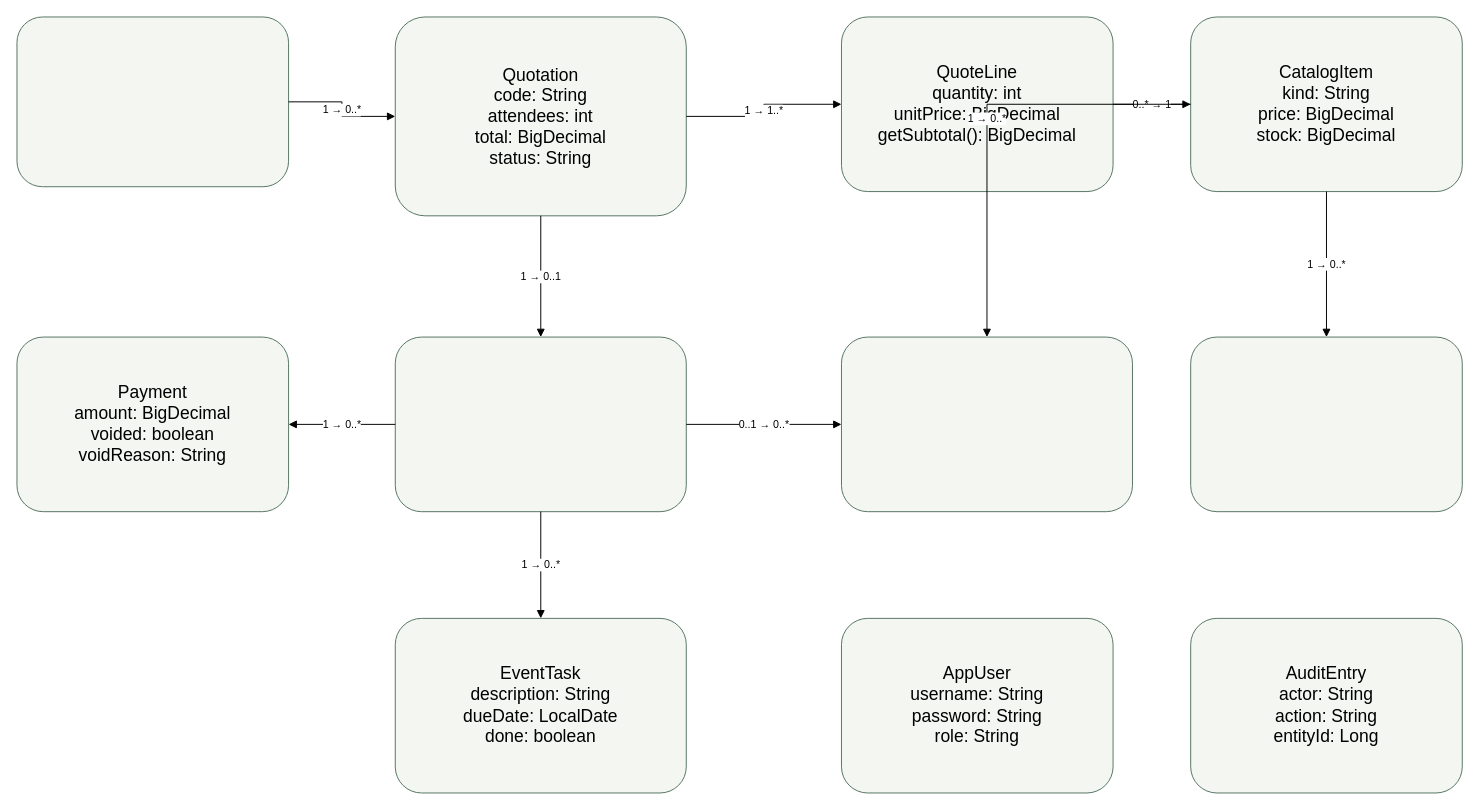
This 1479x810 diagram has some shape labels left out. Each missing label, with the centre of its shape:
"Client id: Long name: String preferences: String active: boolean" belongs at point (152, 101).
"Component parent: CatalogItem ingredient: CatalogItem quantity: BigDecimal" belongs at point (1326, 424).
"Event date: LocalDateTime responsible: String status: String" belongs at point (540, 424).
"StockMovement quantity: BigDecimal resultingStock: BigDecimal actor: String" belongs at point (986, 424).
